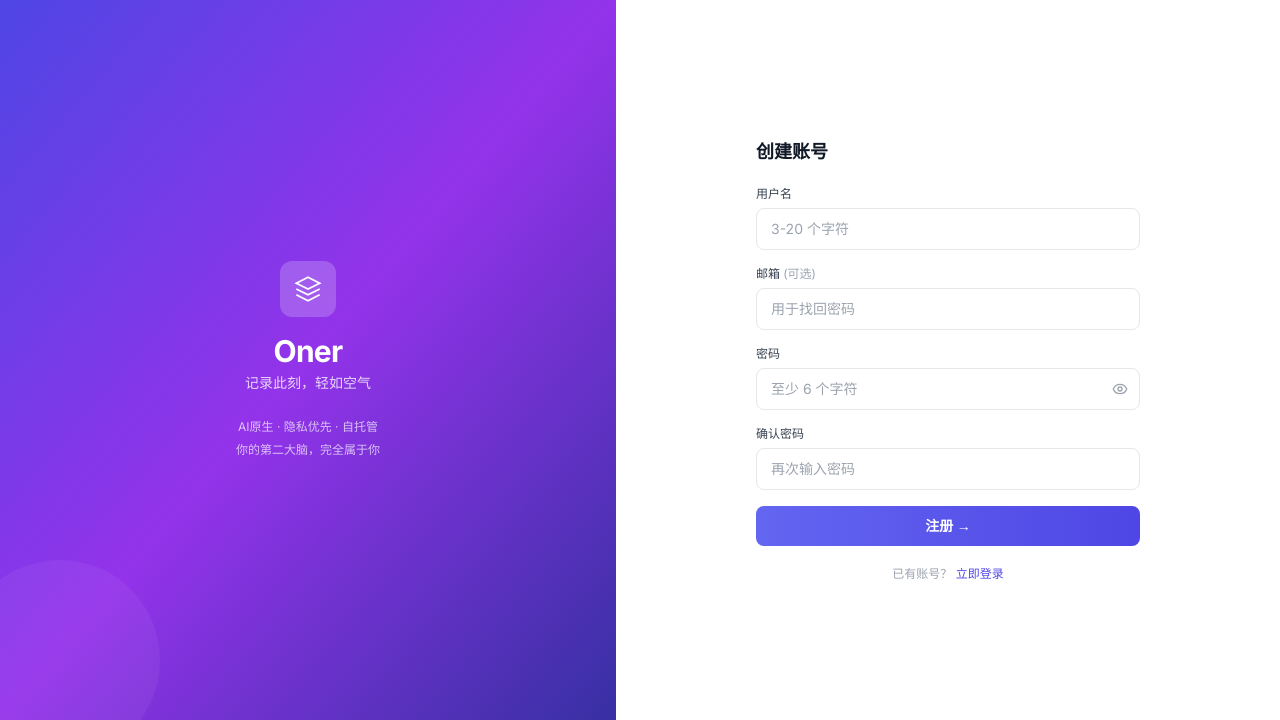
Test: Register Page › RP-04: 密码长度验证
Type "testuser" into the field with placeholder "3-20 个字符".
click(948, 229); type("testuser")  # box top-left (756, 208), bottom-right (1140, 250)
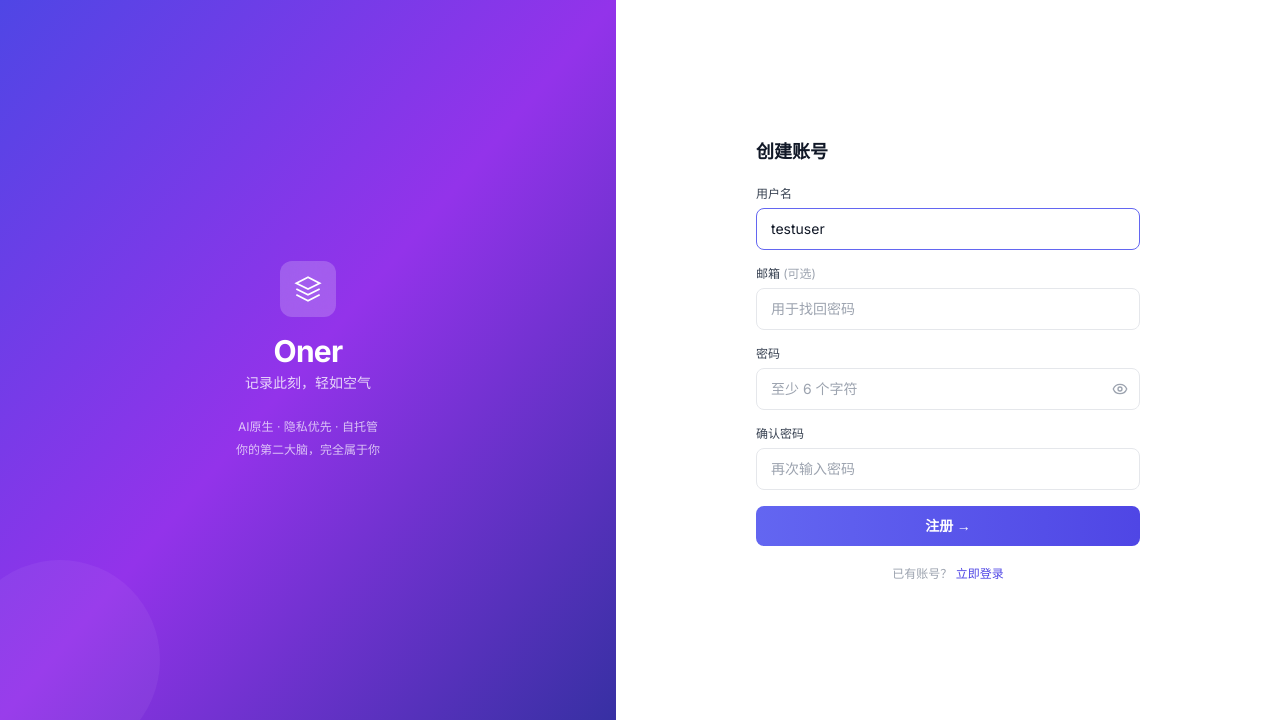
Type "123" into the password field with placeholder "至少 6 个字符".
click(948, 389); type("123")  # box top-left (756, 368), bottom-right (1140, 410)
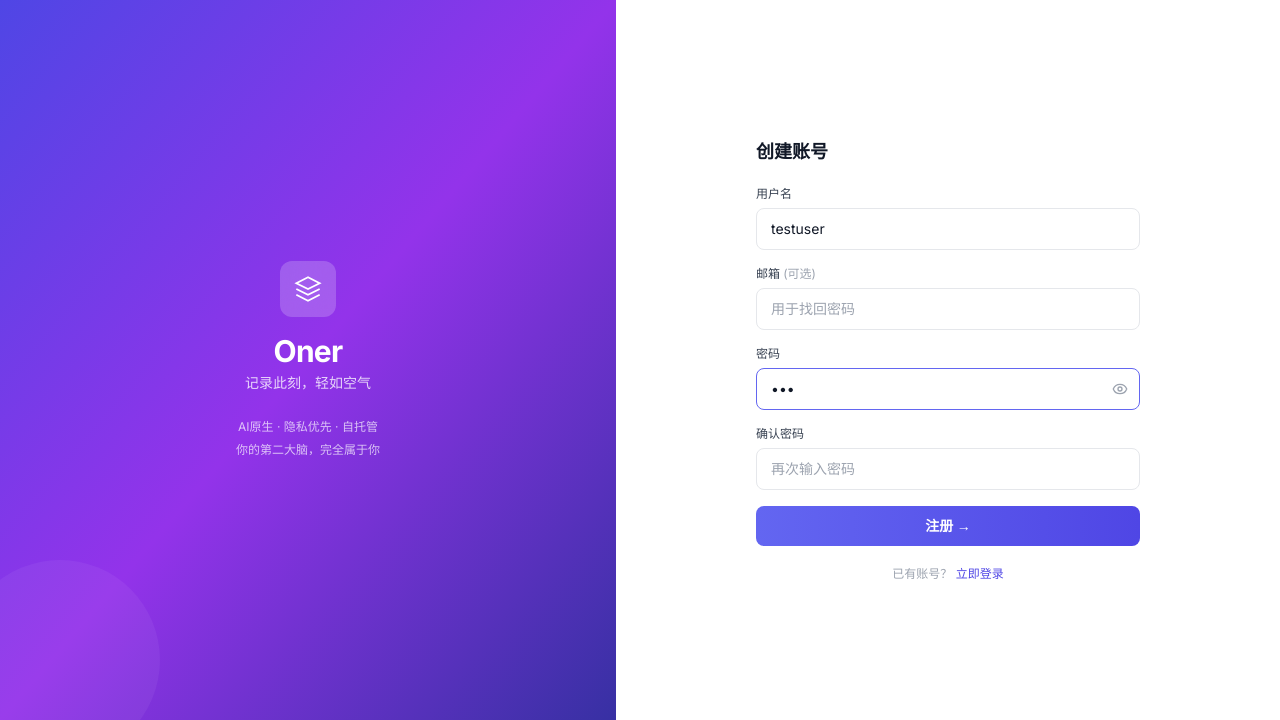
Click the button "注册 →".
click(948, 526)  # box top-left (756, 506), bottom-right (1140, 546)
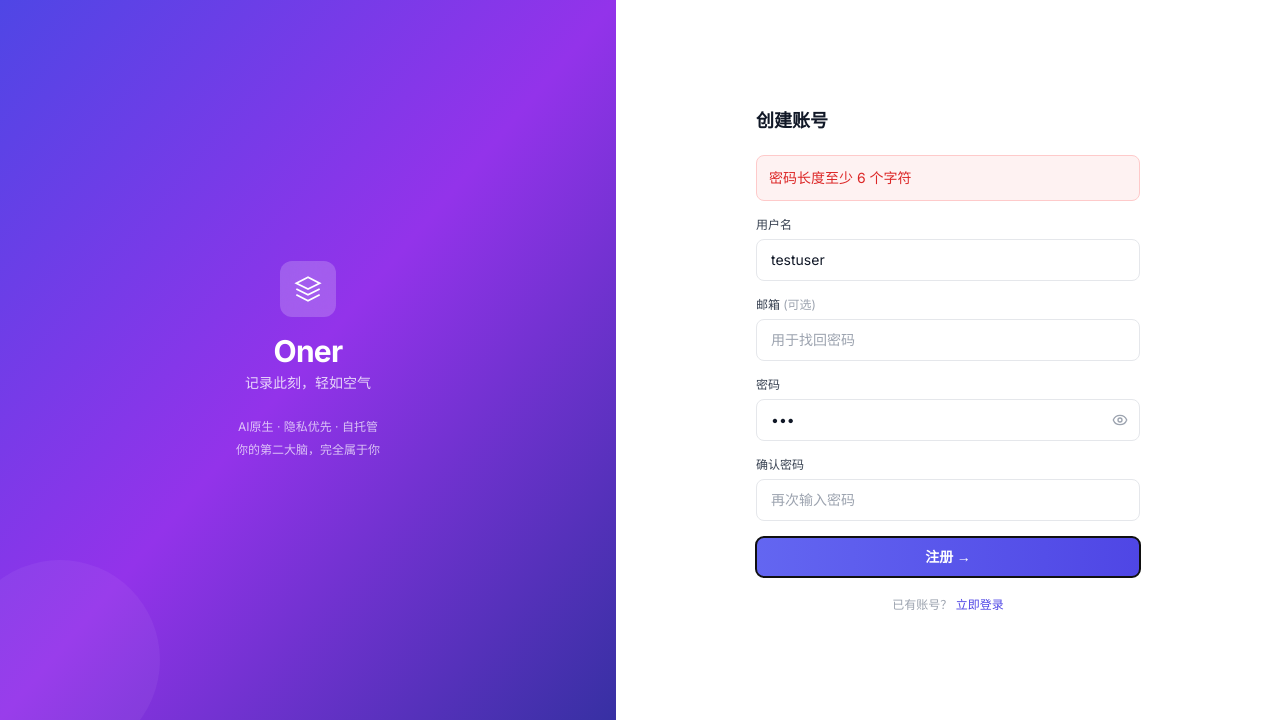
expect the text "密码长度至少 6 个字符" is shown: met, box top-left (756, 155), bottom-right (1140, 201)
